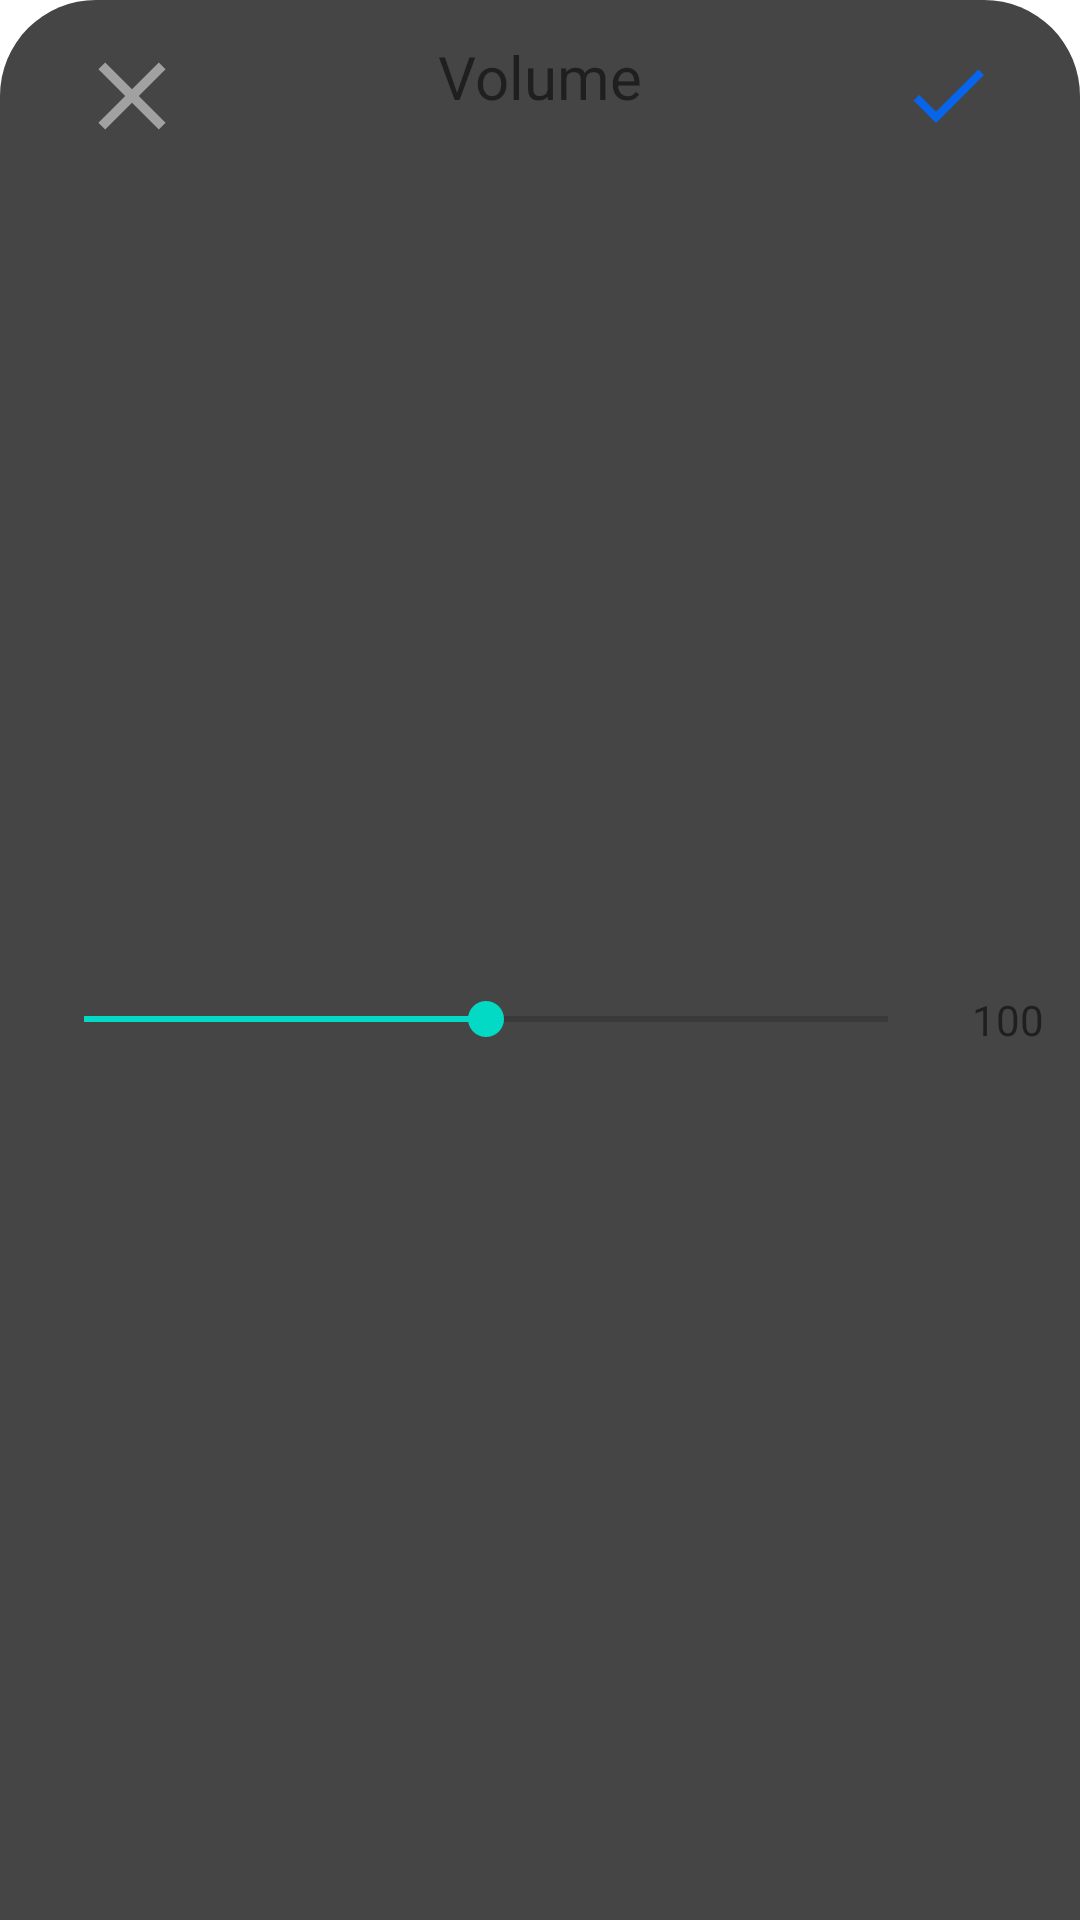

Named icons in this screenshot (1080px×1920px) and their bounding boxes, (x1, y1, x2, y2):
close: (98, 63, 166, 129)
tick: (914, 69, 984, 123)
